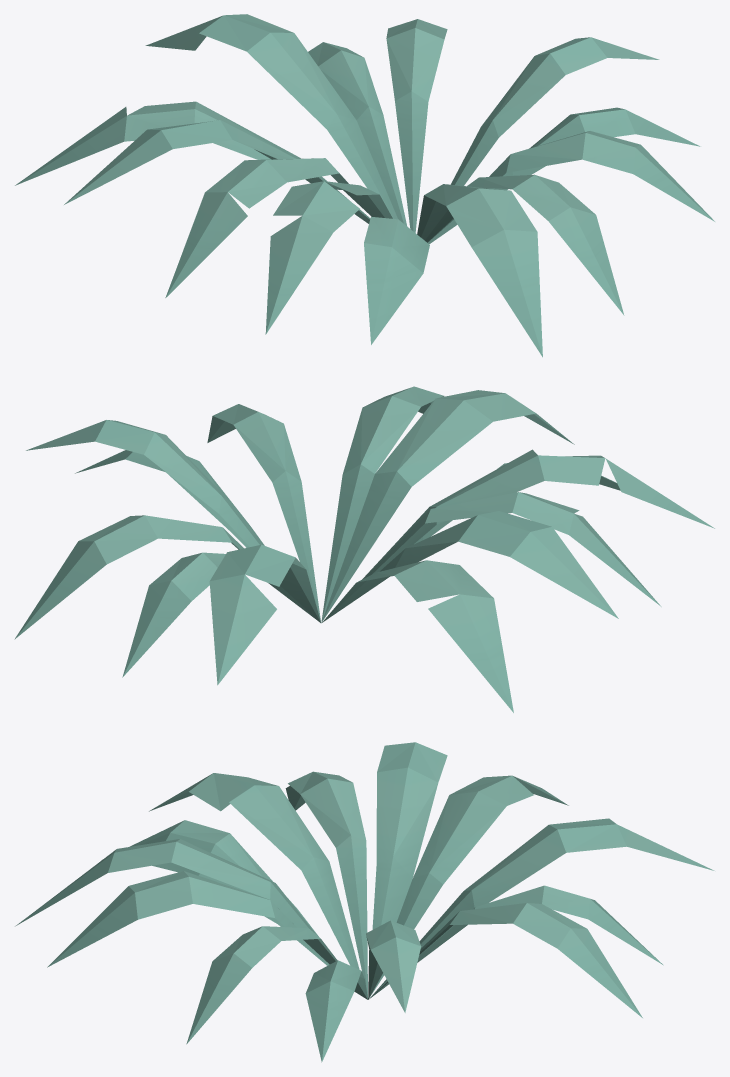
File: plant_low.glb
3 renders of one model, top to bottom at view 1: azimuth 30°, elevation 25°; view 2: azimuth 150°, elevation 25°; view 3: azimuth 270°, elevation 25°, orthographic. The views are drawn at different scales.
Parts seen in each view (by area): view 1: Plant_10_A; view 2: Plant_10_A; view 3: Plant_10_A.
Part boxes in pixels (box(x1,y1,x2,y2)): Plant_10_A: box(15, 14, 714, 357); Plant_10_A: box(14, 386, 714, 712); Plant_10_A: box(15, 742, 714, 1062).
Bounding box in the file's own units: 0.8394 × 0.2223 × 0.923.
Materials: 1 (1 with a texture image).
